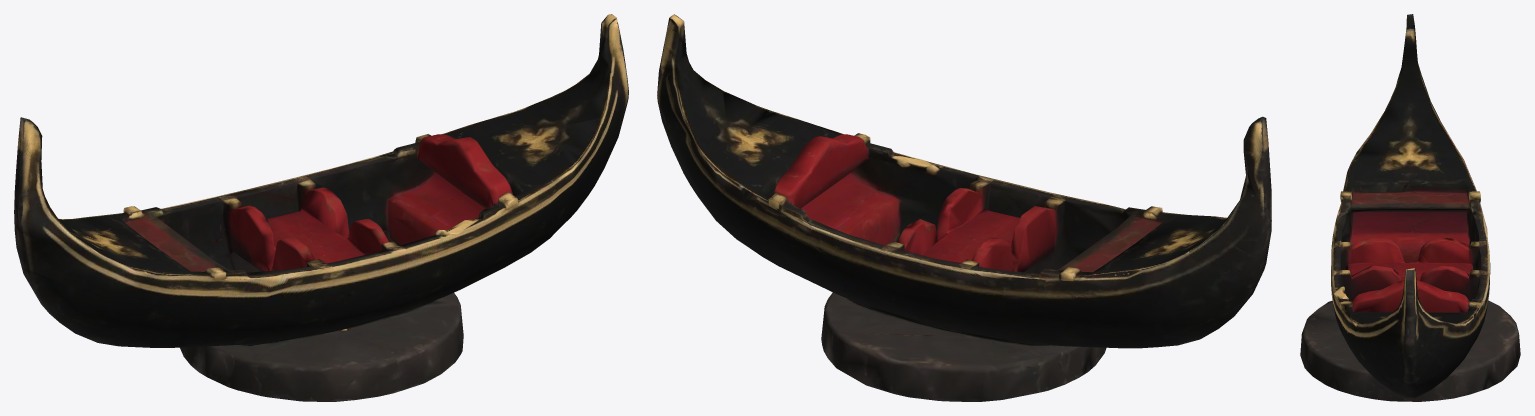
File: token-gondola-venice.glb
The picture shows the model from 3 angles, left to right: view 1: azimuth 30°, elevation 25°; view 2: azimuth 150°, elevation 25°; view 3: azimuth 270°, elevation 25°; orthographic projection. The views are drawn at different scales.
Size of the model in its own units: 1.9 by 0.8915 by 0.7712.
1 material, 1 textured.
